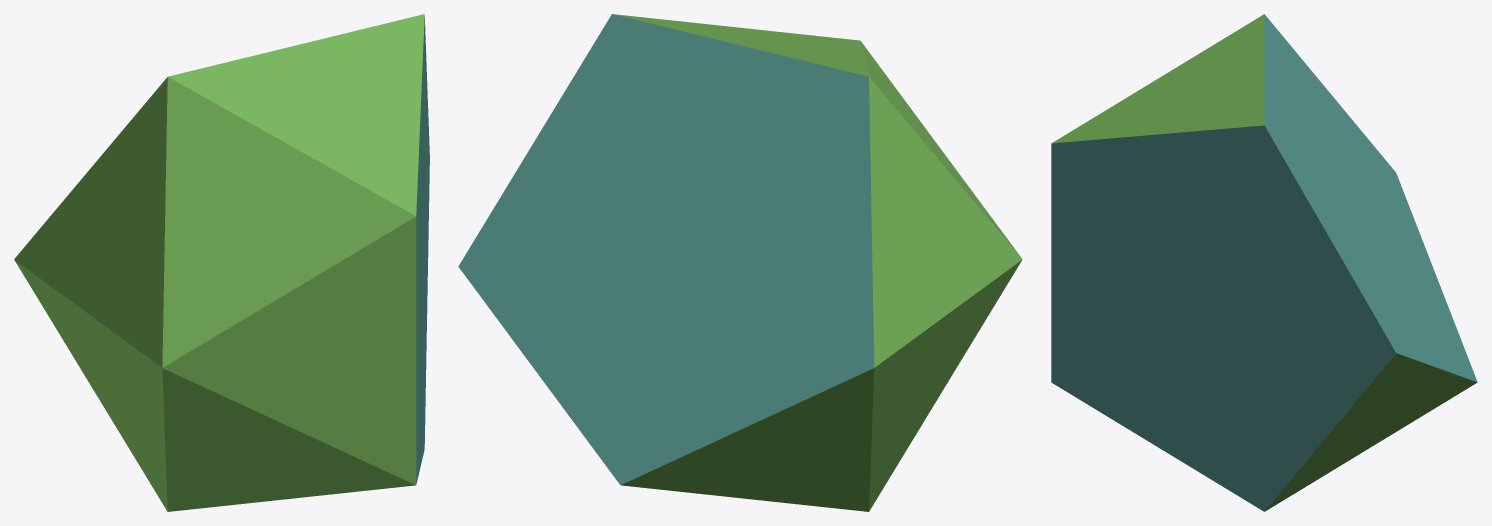
The model's file is J62.IcosaedroMetabidisminuido.gltf.
The picture shows the model from 3 angles, left to right: view 1: azimuth 30°, elevation 25°; view 2: azimuth 150°, elevation 25°; view 3: azimuth 270°, elevation 25°; orthographic projection. The views are drawn at different scales.
Parts seen in each view (by area): view 1: J62.IcosaedroMetabidisminuido; view 2: J62.IcosaedroMetabidisminuido; view 3: J62.IcosaedroMetabidisminuido.
Part boxes in pixels (x1,y1,x2,y2): J62.IcosaedroMetabidisminuido: (14,14,429,511); J62.IcosaedroMetabidisminuido: (458,14,1022,511); J62.IcosaedroMetabidisminuido: (1051,14,1477,511).
Size of the model in its own units: 17.01 by 17.01 by 17.01.
